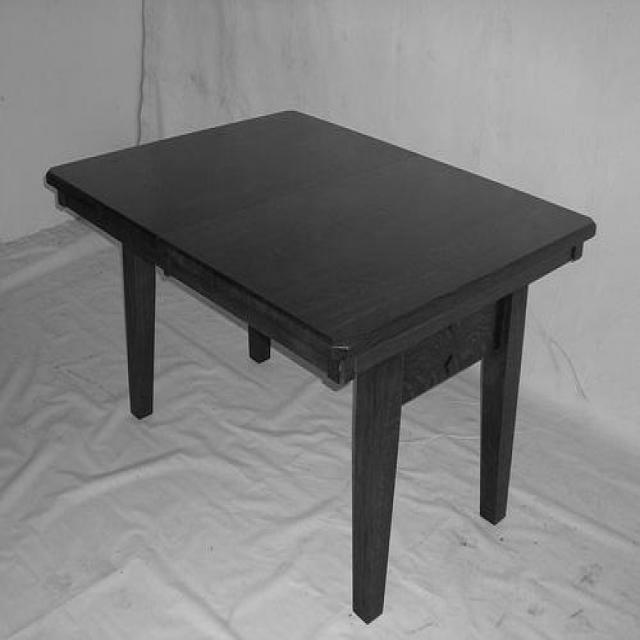table: (44, 104, 597, 624)
